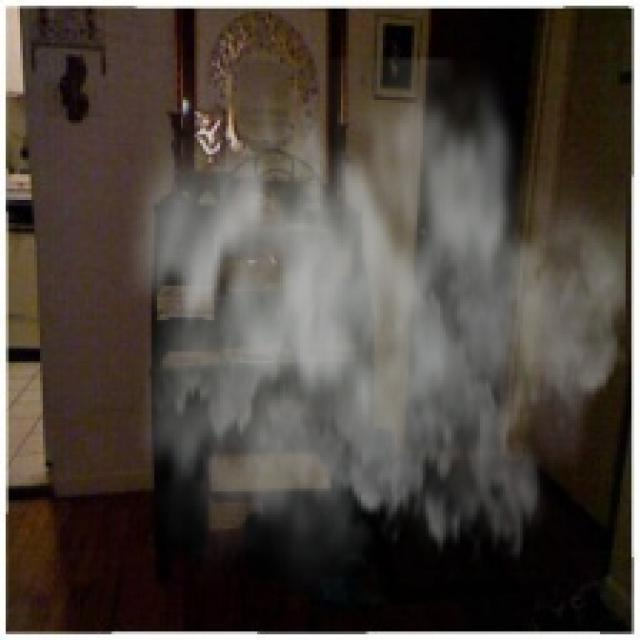Smoke: (97, 57, 626, 612)
